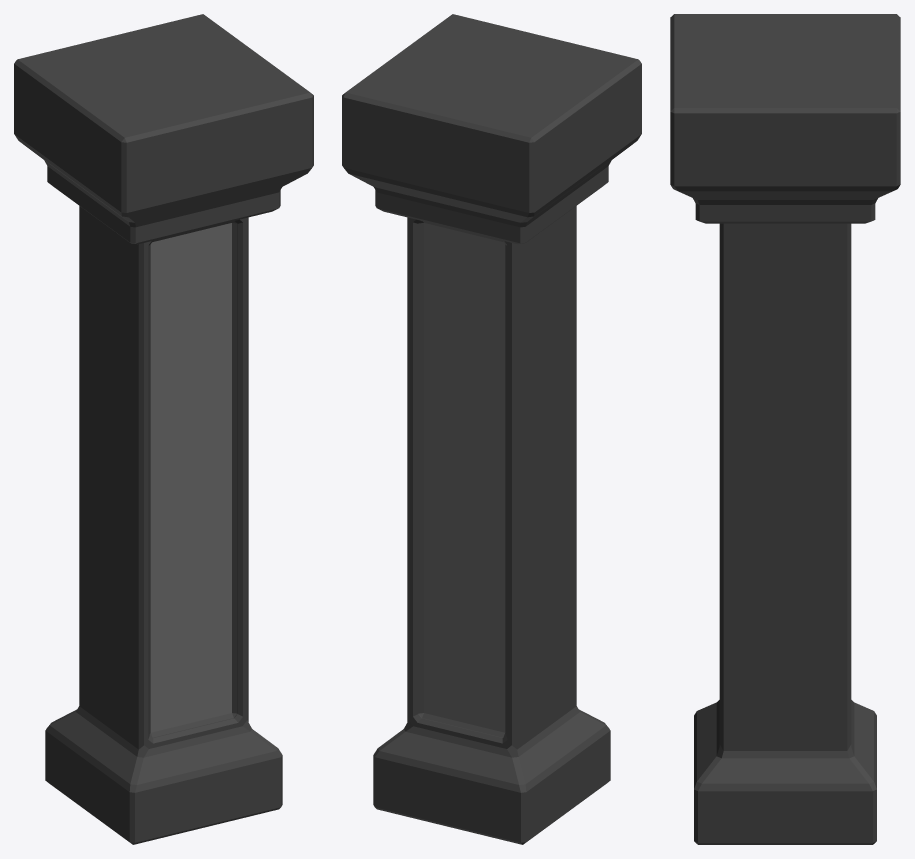
Rendered from column.fbx.
3 renders of one model, left to right at view 1: azimuth 30°, elevation 25°; view 2: azimuth 150°, elevation 25°; view 3: azimuth 270°, elevation 25°, orthographic. The views are drawn at different scales.
Parts seen in each view (by area): view 1: Cube.001; view 2: Cube.001; view 3: Cube.001.
Part boxes in pixels (bbox=[...]): Cube.001: bbox=[14, 14, 313, 844]; Cube.001: bbox=[342, 14, 641, 844]; Cube.001: bbox=[670, 14, 900, 844].
Size of the model in its own units: 52.84 by 189 by 52.84.
